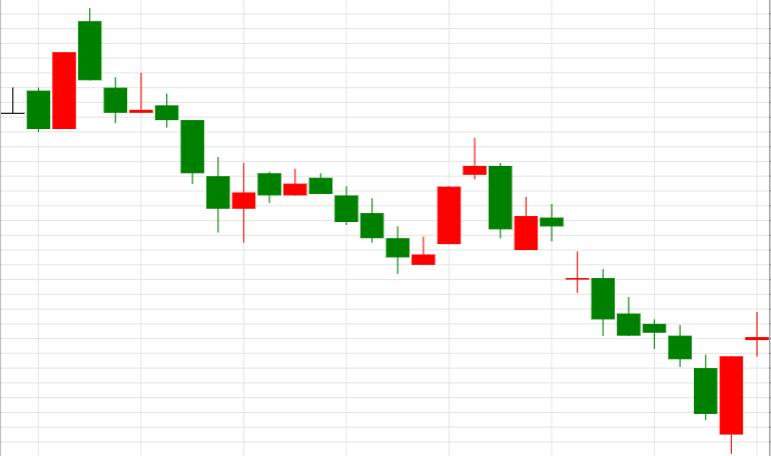bullish_engulfing_rise: (540, 204, 744, 453)
